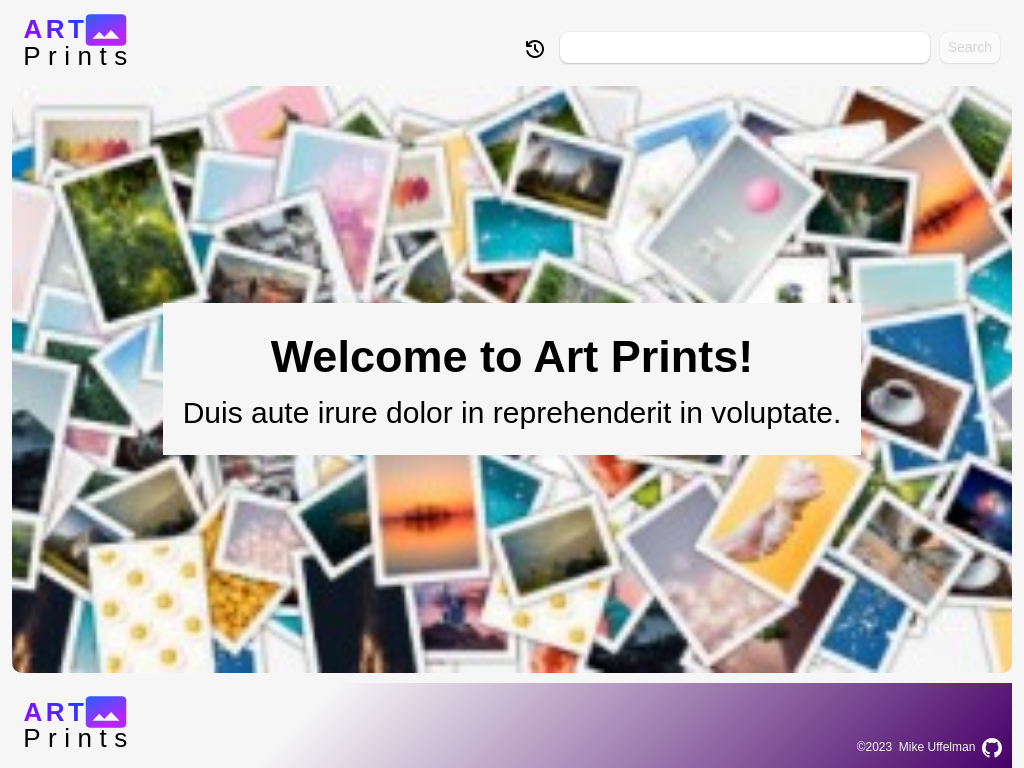
Scenario: search component › should have a enabled search button if term has been entered
Type "dogs" into the field at (745, 48), box [560, 32, 930, 63]
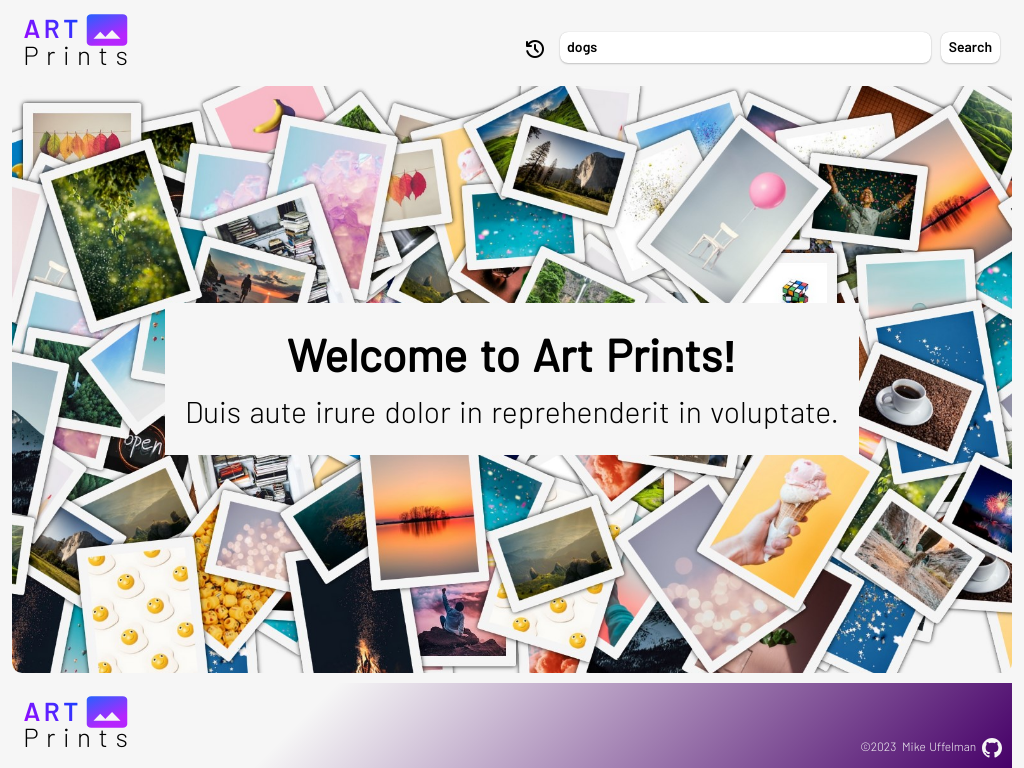
Expected: the button is enabled, [941, 32, 1000, 63]
